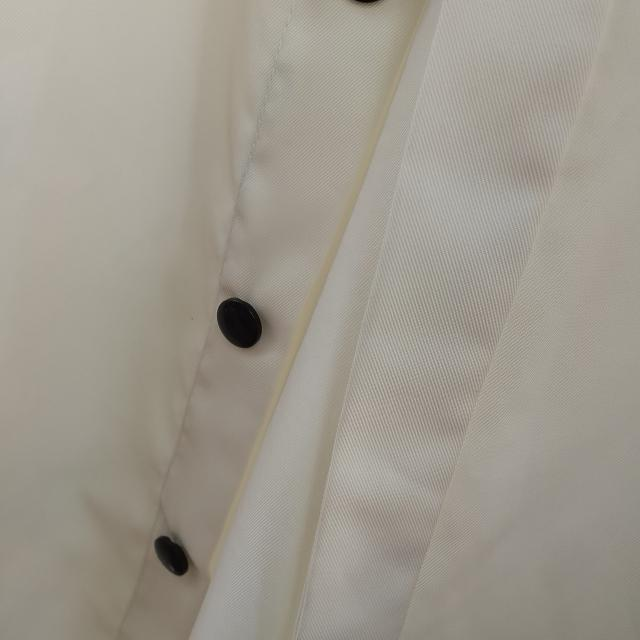education_male_uniform: (66, 143, 423, 637)
